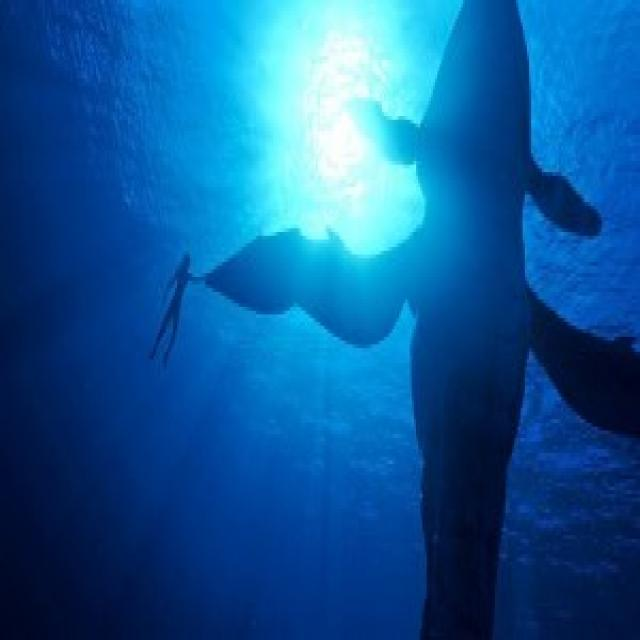Shark: (200, 0, 640, 638)
